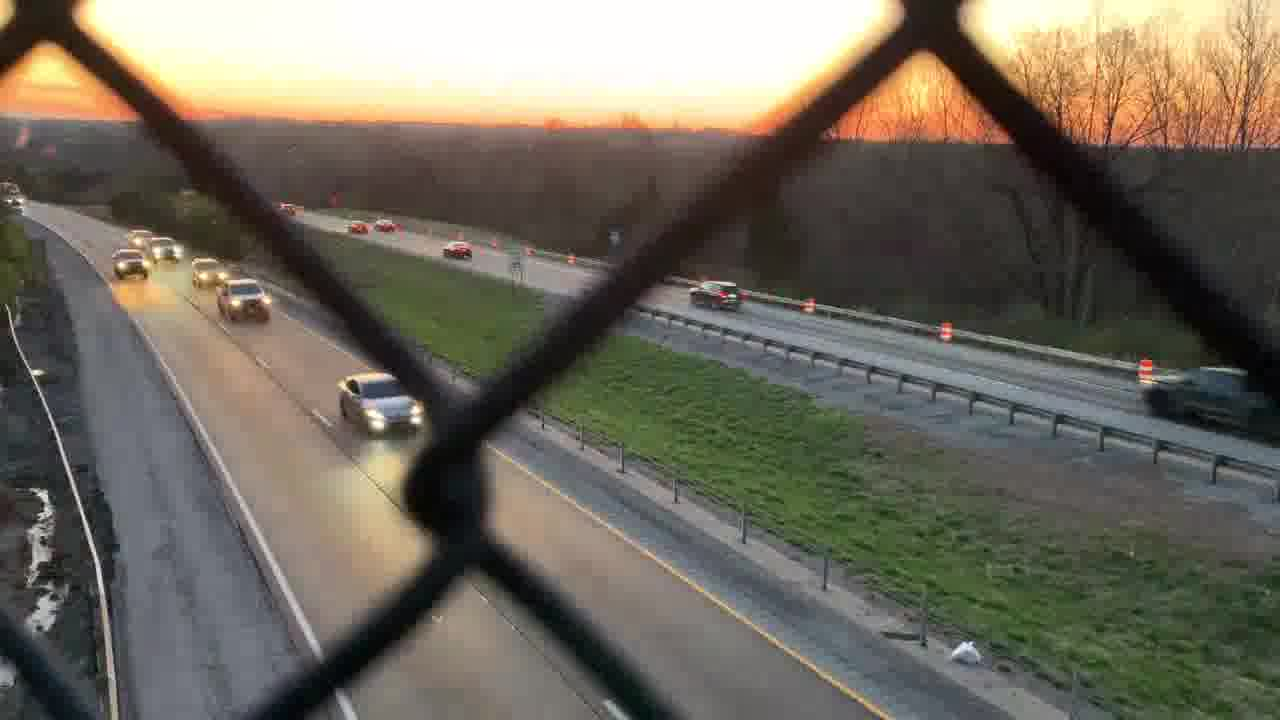largeCar: (686, 275, 749, 315)
lightTruck: (1136, 352, 1280, 441), (215, 276, 278, 330)
smallCar: (333, 369, 427, 442), (442, 239, 475, 261)
vehicle: (111, 239, 152, 286), (188, 252, 229, 286), (149, 232, 186, 262), (372, 210, 403, 237), (2, 171, 24, 209), (124, 226, 155, 247), (345, 213, 370, 234)
